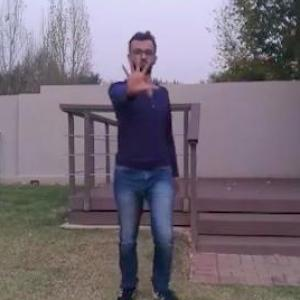follow_hand: (119, 53, 159, 94)
